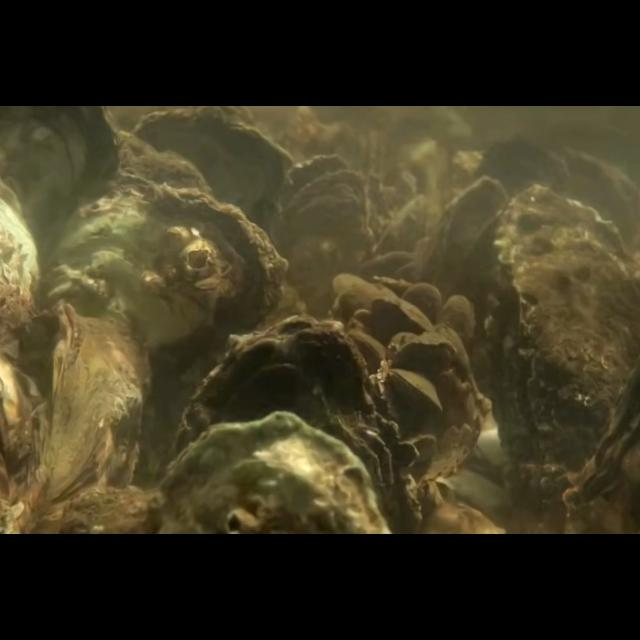Oyster-Closed: (55, 182, 289, 458), (179, 316, 419, 534), (484, 184, 640, 481), (154, 412, 392, 534), (387, 369, 441, 411), (394, 340, 458, 372)
Oyster-Indeterminate: (20, 299, 150, 535), (426, 176, 510, 330), (371, 296, 434, 332), (403, 282, 443, 330), (442, 294, 474, 344)
Oyster-Open: (270, 154, 366, 296)
